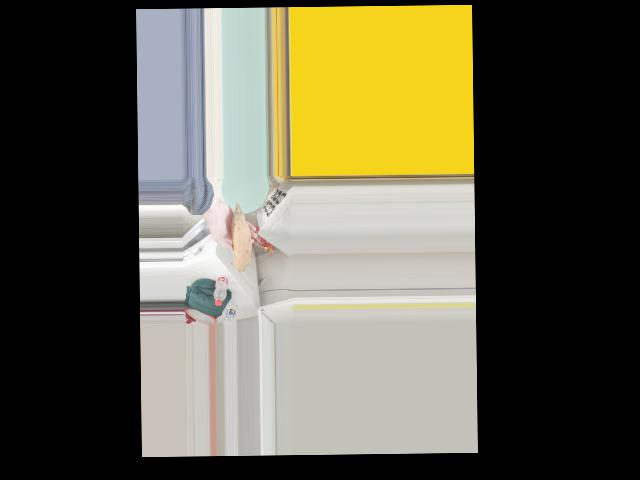sweet_potato: (227, 216, 251, 277)
